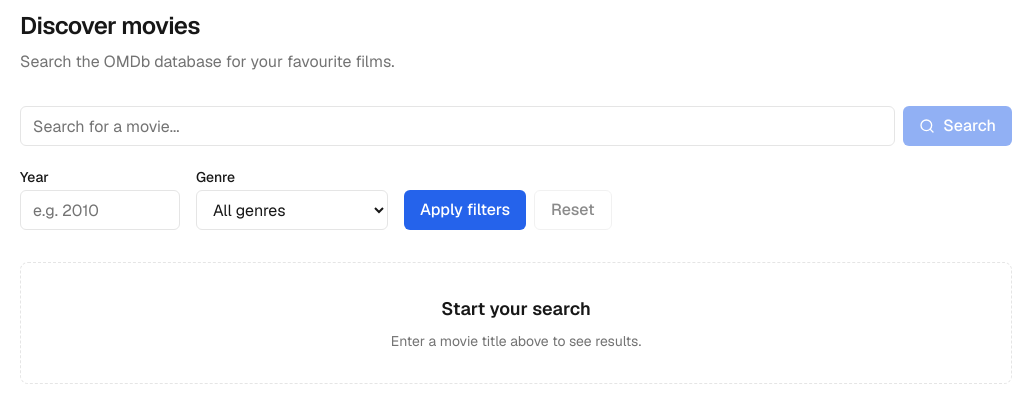
Test: HomePage › displays a no-results message when the API returns no matches
Step 1. Type "xyznonexistent" into the search field with placeholder "Search for a movie..." → (458, 126), box 20,106 -> 895,146
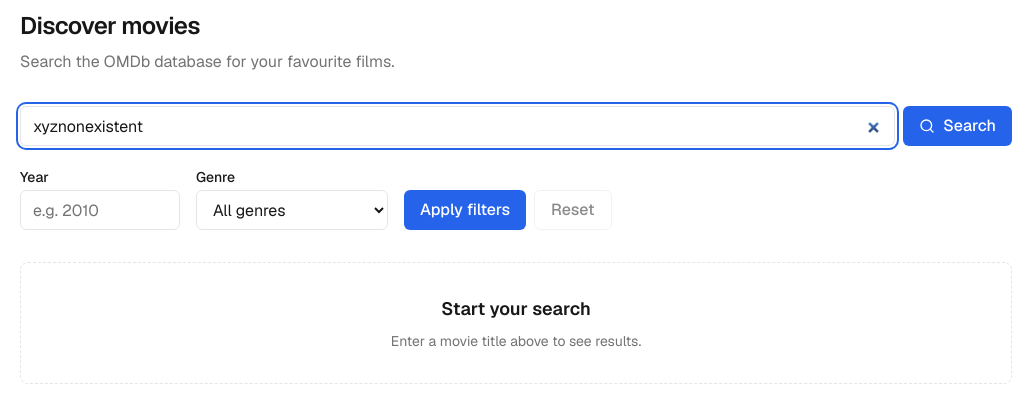
Step 2. Click the button "Search" → (958, 126), box 903,106 -> 1012,146
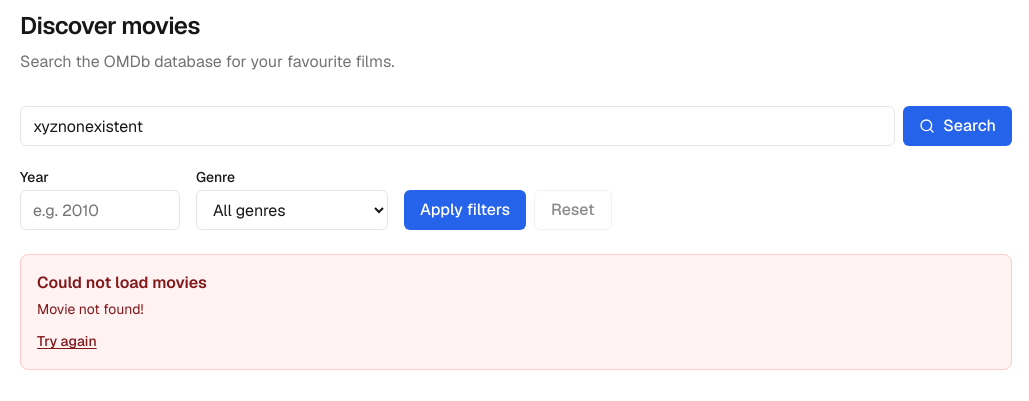
expect the text "Movie not found!" is shown: met, box 37,300 -> 144,318
